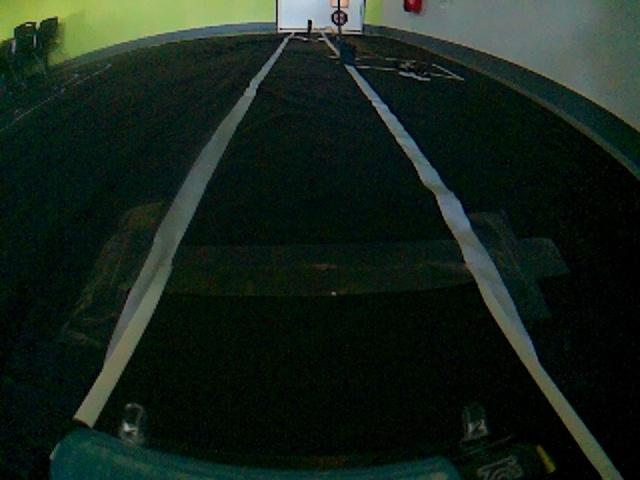go: (118, 68, 531, 320)
hill_down: (56, 334, 610, 472)
